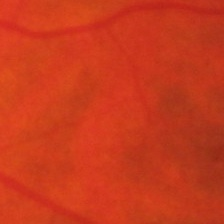MA: (212, 146, 223, 162)
